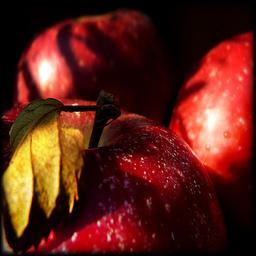apple: (3, 101, 219, 250), (15, 9, 193, 116)
